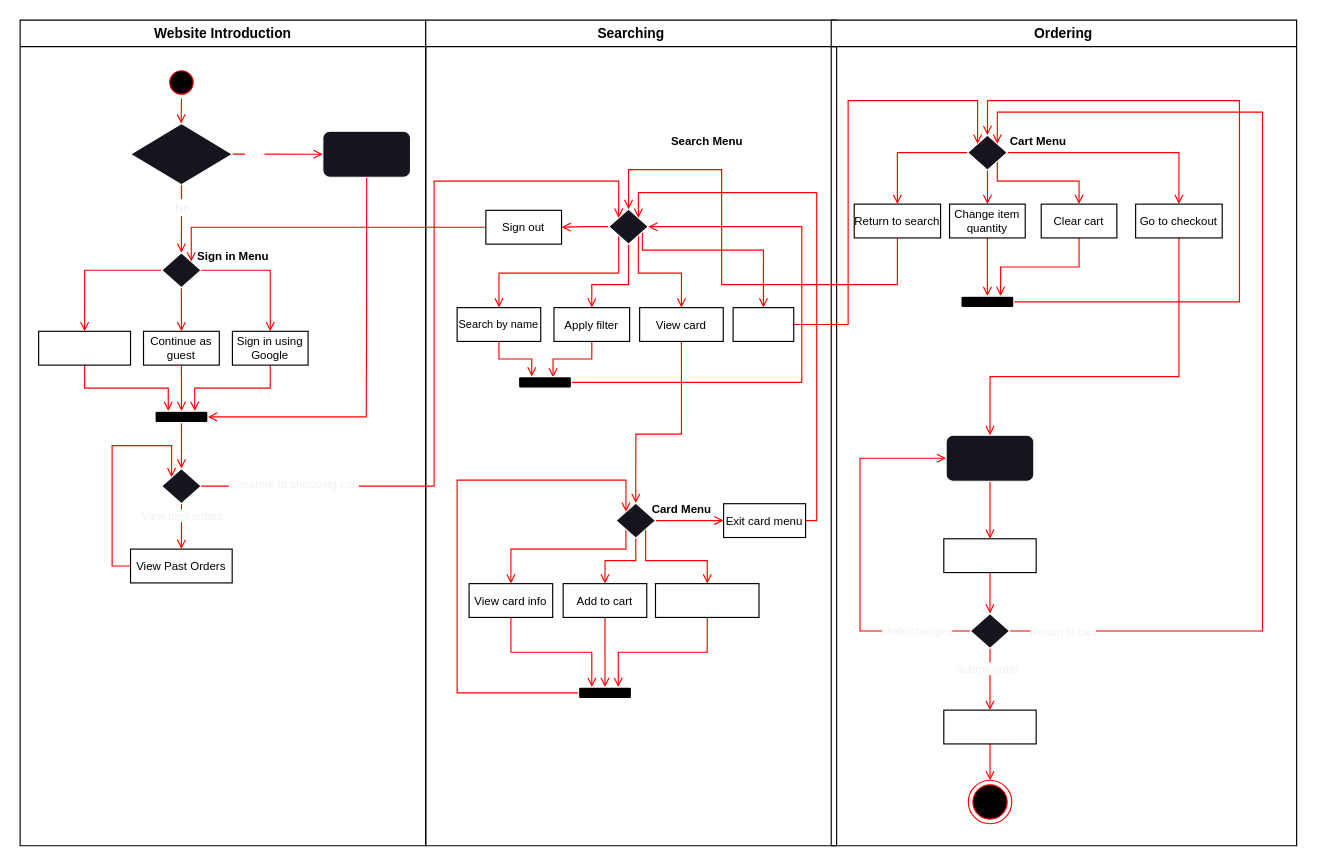
Image size: 1317x866. Some labels were removed from this diagram. Here are the shapes that lost their labels. From the top down, the box of each, then its label:
(129, 122, 232, 185): Valid login in cookie?
(322, 130, 411, 177): Automatically sign in
(732, 306, 794, 341): Go to cart
(37, 330, 131, 365): Create account using Google
(945, 434, 1034, 481): Auto-compose email
(943, 538, 1036, 573): Modify Email
(654, 582, 759, 617): Remove from cart
(943, 709, 1036, 744): Send email
